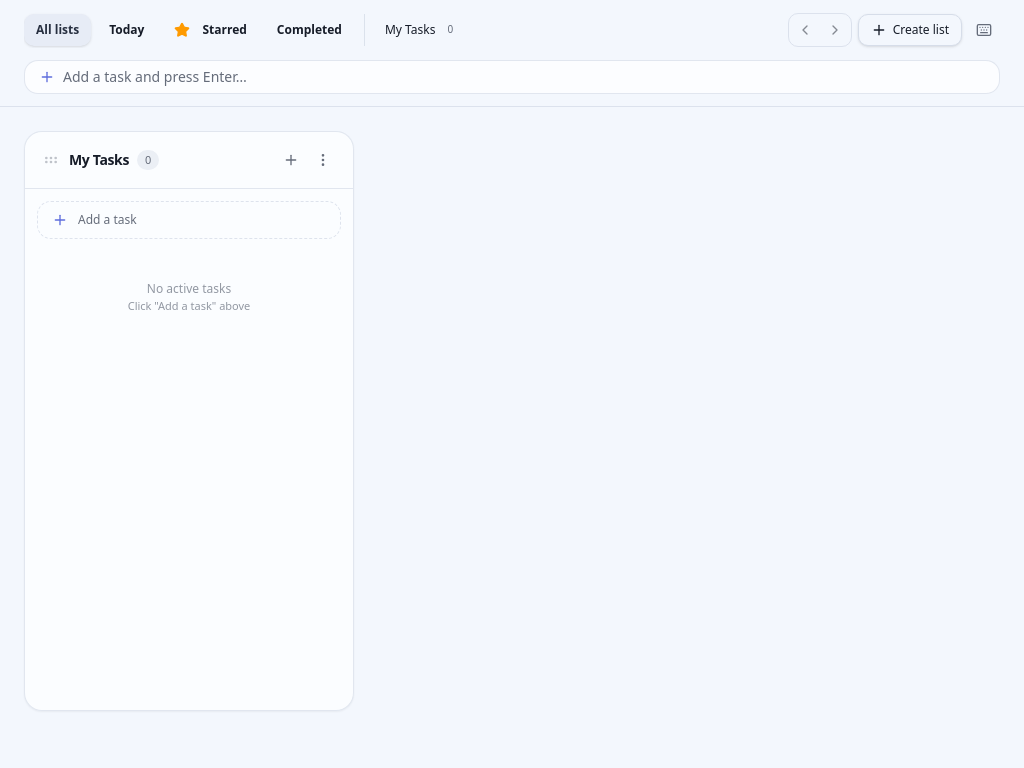
it: Google Tasks Experience (Phase 3) › creates a task inline with Enter and verifies it appears in list
# Find the quick Add a task button on the first column
Click the button named "Add a task" at (291, 160), box [277, 146, 305, 174]
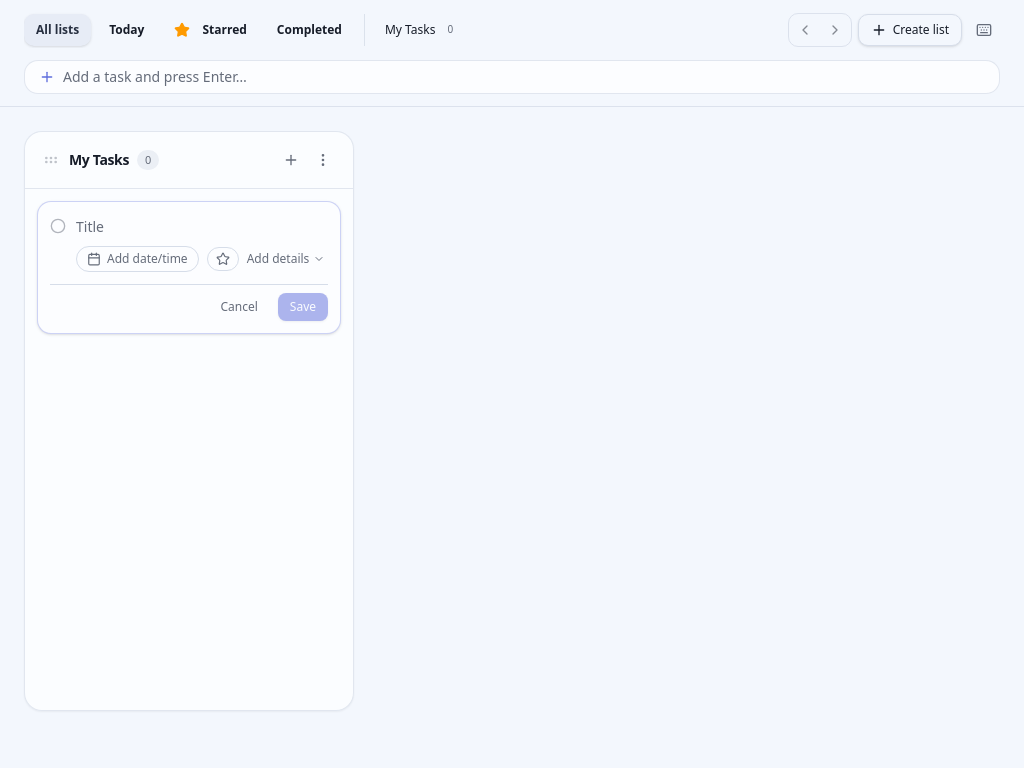
Type "Ship Google Tasks Experience" into the field with placeholder "Title" at (202, 227), box [76, 217, 328, 237]
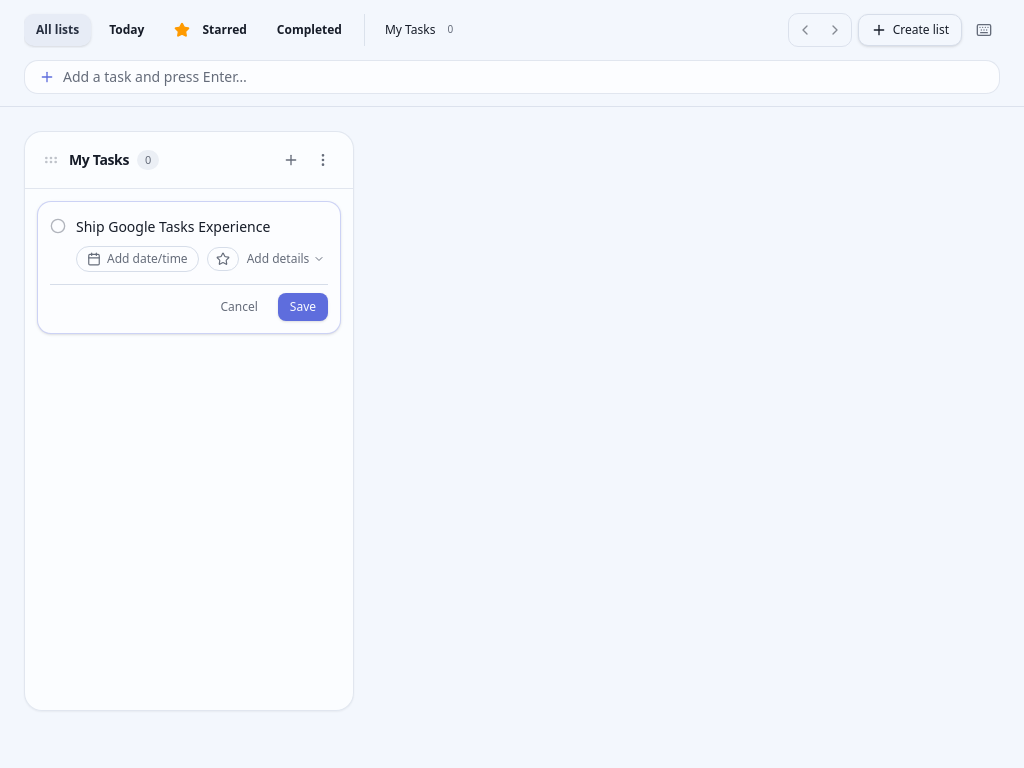
Press Enter in the field with placeholder "Title", box [76, 217, 328, 237]
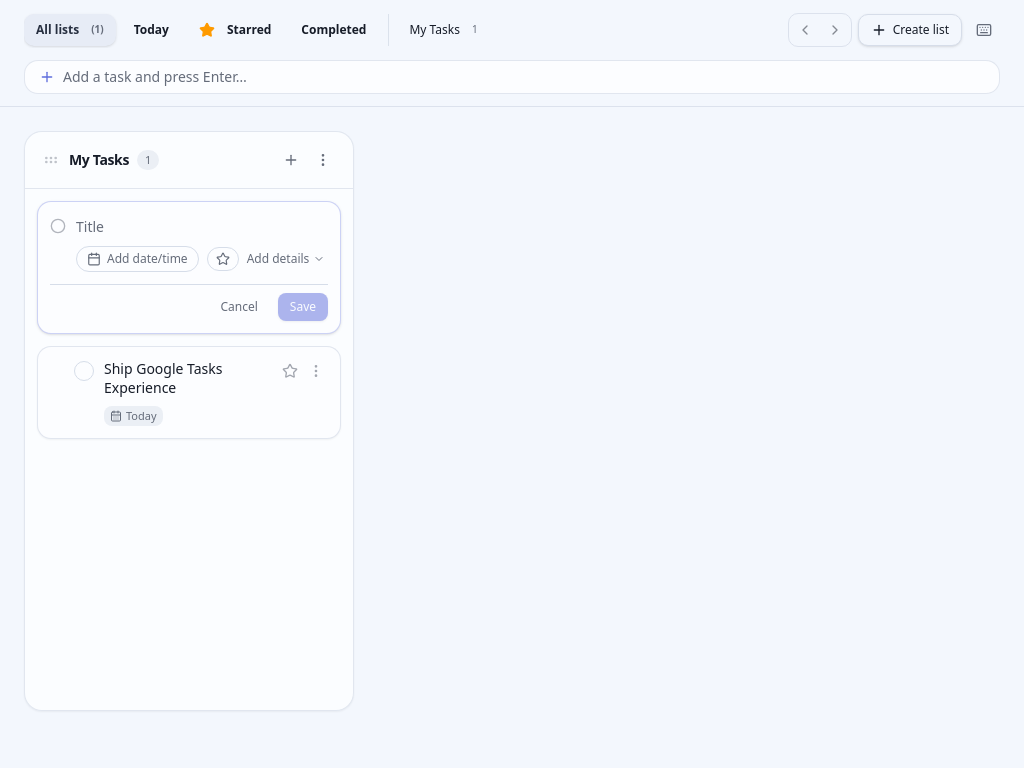
Result: the heading "Ship Google Tasks Experience" is shown at [104, 359, 222, 397]
